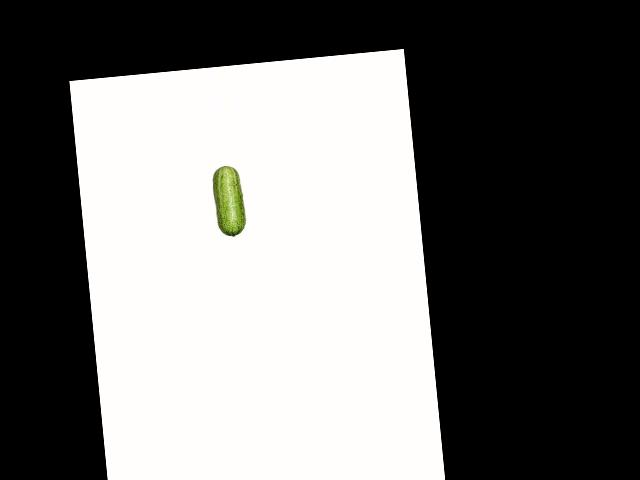cucumber: (211, 164, 246, 238)
